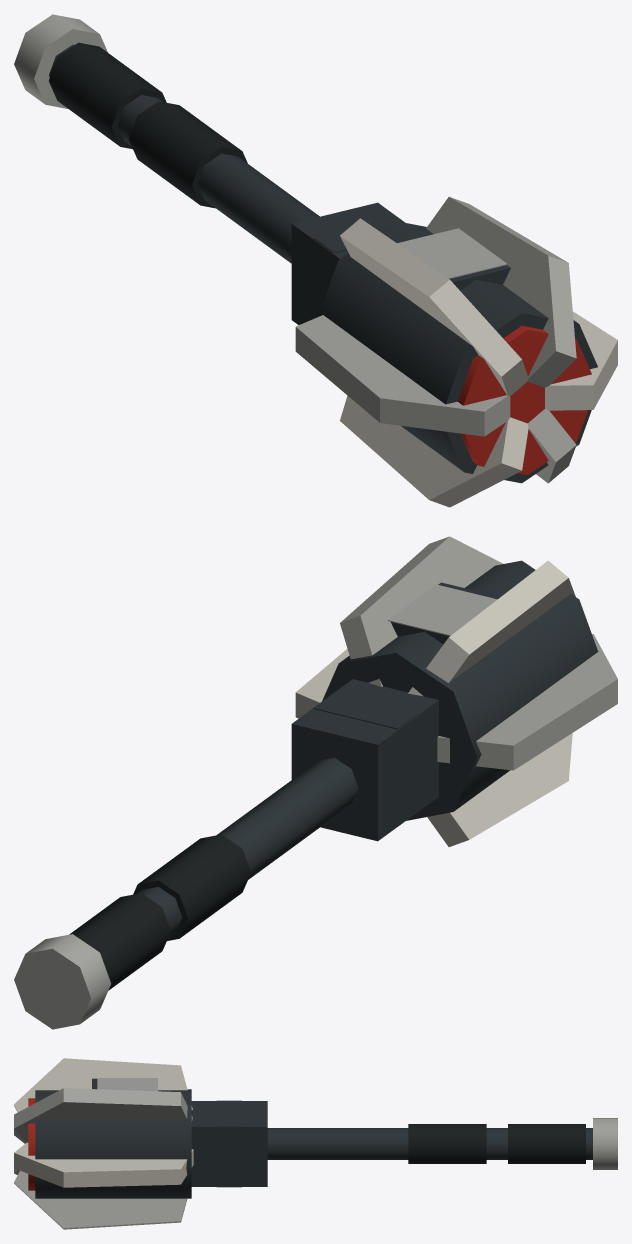
3 renders of one model, top to bottom at view 1: azimuth 30°, elevation 25°; view 2: azimuth 150°, elevation 25°; view 3: azimuth 270°, elevation 25°, orthographic. The views are drawn at different scales.
Visible parts, largest first — view 1: weapon-shock-mace-painted; view 2: weapon-shock-mace-painted; view 3: weapon-shock-mace-painted.
Boxes of the visible parts, x1,y1,x2,y2 form: weapon-shock-mace-painted: [14, 14, 617, 507]; weapon-shock-mace-painted: [14, 536, 617, 1029]; weapon-shock-mace-painted: [14, 1058, 617, 1229].
Bounding box in the file's own units: 1.26 × 1.16 × 4.47.
